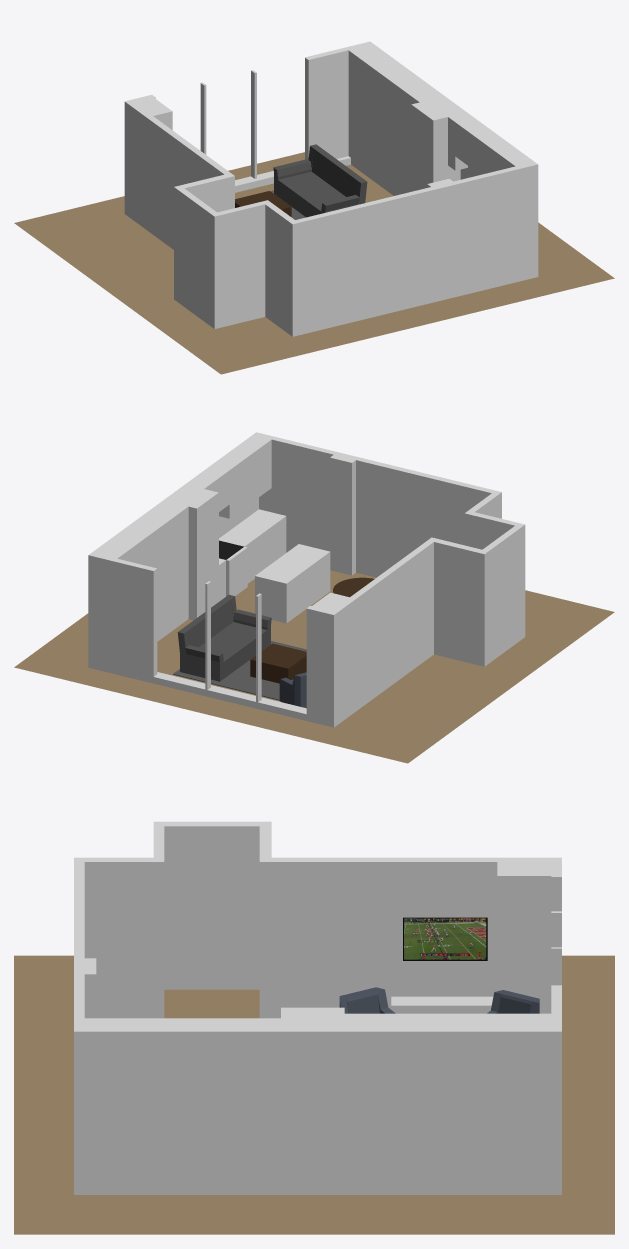
Rendered from QAve-take2.glb.
3 renders of one model, top to bottom at view 1: azimuth 30°, elevation 25°; view 2: azimuth 150°, elevation 25°; view 3: azimuth 270°, elevation 25°, orthographic. The views are drawn at different scales.
Parts seen in each view (by area): view 1: Walls, Floor, Cabinet Behind Couch, Couch, Counter + Fridge, Upper Cupboards, Coffee Table, Air Duct; view 2: Walls, Floor, Counter + Fridge, Cabinet Behind Couch, Couch, Island, Upper Cupboards, Coffee Table, Area Rug, Chair 1, TV Stand, Table; view 3: Walls, Floor, Air Duct, TV Screen - 55 Inch, Cabinet Behind Couch, Upper Cupboards, TV Stand, Counter + Fridge, Chair 2, Chair 1.
Part boxes in pixels (left/top/right/bottom): Walls: left=124, top=41, right=538, bottom=336; Floor: left=14, top=152, right=614, bottom=374; Cabinet Behind Couch: left=348, top=45, right=438, bottom=195; Couch: left=273, top=144, right=367, bottom=217; Counter + Fridge: left=411, top=98, right=460, bottom=191; Upper Cupboards: left=448, top=114, right=527, bottom=176; Coffee Table: left=235, top=191, right=291, bottom=216; Air Duct: left=135, top=98, right=172, bottom=129; Walls: left=88, top=432, right=525, bottom=727; Floor: left=14, top=570, right=614, bottom=763; Counter + Fridge: left=170, top=486, right=286, bottom=620; Cabinet Behind Couch: left=99, top=502, right=188, bottom=641; Couch: left=177, top=594, right=271, bottom=681; Island: left=255, top=544, right=330, bottom=623; Upper Cupboards: left=192, top=436, right=271, bottom=518; Coffee Table: left=250, top=643, right=306, bottom=683; Area Rug: left=173, top=641, right=306, bottom=700; Chair 1: left=279, top=672, right=306, bottom=708; TV Stand: left=356, top=665, right=392, bottom=710; Table: left=333, top=577, right=374, bottom=597; Walls: left=74, top=821, right=561, bottom=1194; Floor: left=14, top=955, right=614, bottom=1234; Air Duct: left=497, top=862, right=551, bottom=1013; TV Screen - 55 Inch: left=404, top=918, right=486, bottom=959; Cabinet Behind Couch: left=344, top=1013, right=551, bottom=1027; Upper Cupboards: left=84, top=1018, right=280, bottom=1027; TV Stand: left=391, top=996, right=493, bottom=1013; Counter + Fridge: left=281, top=1007, right=344, bottom=1027; Chair 2: left=339, top=987, right=395, bottom=1013; Chair 1: left=487, top=990, right=539, bottom=1013.
Bounding box in the file's own units: 9.49 × 2.59 × 8.64.
10 materials, 1 textured.
